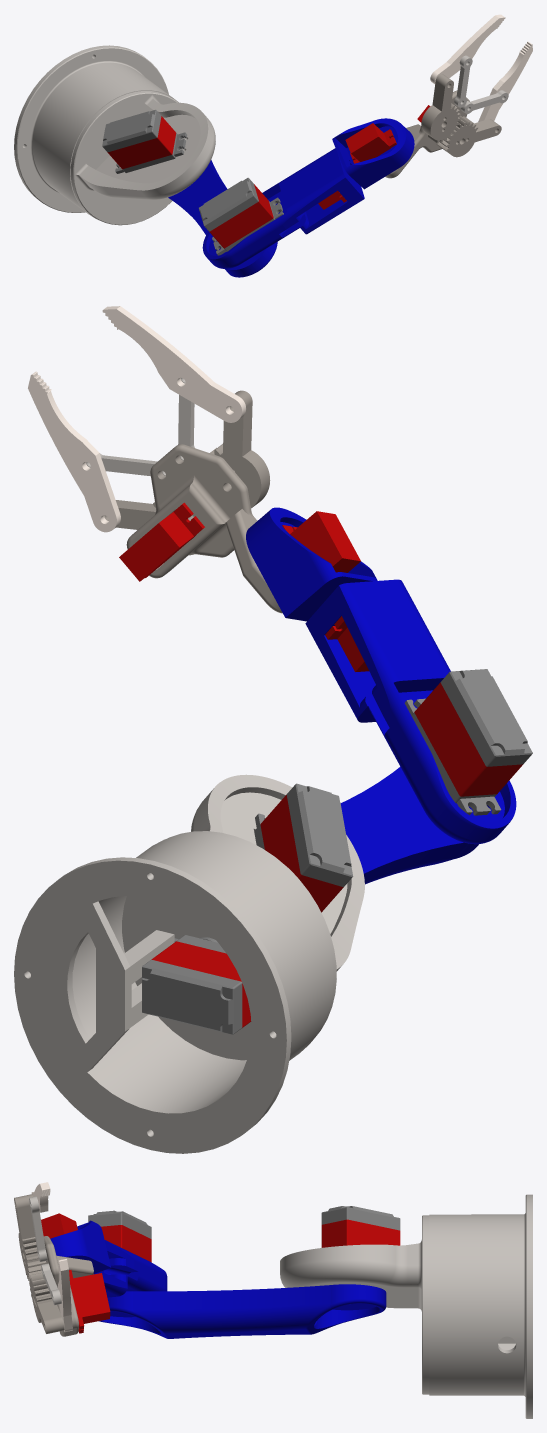
File: Robotic_Arm_Assembly.glb
3 renders of one model, top to bottom at view 1: azimuth 30°, elevation 25°; view 2: azimuth 150°, elevation 25°; view 3: azimuth 270°, elevation 25°, orthographic. The views are drawn at different scales.
Parts seen in each view (by area): view 1: Base 2-1, Base-1, Link 2-1, Motor-3, Motor-4, Link 3-1, Link 1-1, Gear Link-3, Gear Link-2, Arm Motor-2, ARM-2, ARM-1 (+3 smaller); view 2: Base 2-1, Link 2-1, Base-1, Motor-4, Gripper Link-1, Link 1-1, Motor-2, Motor-3, Link 3-1, ARM-1, ARM-2, Arm Motor-1 (+2 smaller); view 3: Base 2-1, Link 1-1, Base-1, Motor-3, Link 2-1, Motor-4, Link 3-1, Arm Motor-1, Gear Link-3, Gear Link-2, Gripper Link-1, ARM-1 (+4 smaller).
Part boxes in pixels (x1,y1,x2,y2): Base 2-1: (14, 45, 178, 219); Base-1: (70, 91, 215, 225); Link 2-1: (202, 148, 364, 268); Motor-3: (102, 109, 187, 173); Motor-4: (198, 177, 283, 255); Link 3-1: (332, 118, 414, 189); Link 1-1: (168, 160, 277, 277); Gear Link-3: (421, 74, 460, 143); Gear Link-2: (436, 115, 501, 157); Arm Motor-2: (345, 123, 396, 163); ARM-2: (430, 14, 505, 84); ARM-1: (478, 41, 532, 121); Base 2-1: (14, 833, 333, 1153); Link 2-1: (305, 579, 516, 844); Base-1: (122, 774, 364, 1060); Motor-4: (404, 669, 532, 815); Gripper Link-1: (126, 444, 282, 613); Link 1-1: (340, 767, 478, 884); Motor-2: (142, 935, 251, 1034); Motor-3: (254, 783, 353, 912); Link 3-1: (246, 507, 377, 621); ARM-1: (28, 371, 120, 532); ARM-2: (102, 306, 245, 422); Arm Motor-1: (119, 502, 204, 581); Base 2-1: (429, 1194, 532, 1418); Link 1-1: (99, 1284, 386, 1338); Base-1: (280, 1215, 429, 1394); Motor-3: (321, 1206, 400, 1247); Link 2-1: (94, 1240, 167, 1297); Motor-4: (88, 1210, 151, 1262); Link 3-1: (50, 1220, 111, 1273); Arm Motor-1: (69, 1270, 110, 1333); Gear Link-3: (14, 1194, 46, 1280); Gear Link-2: (28, 1272, 64, 1333); Gripper Link-1: (43, 1236, 93, 1336); ARM-1: (57, 1258, 72, 1331).
Bounding box in the file's own units: 0.2606 × 0.2125 × 0.2803.
